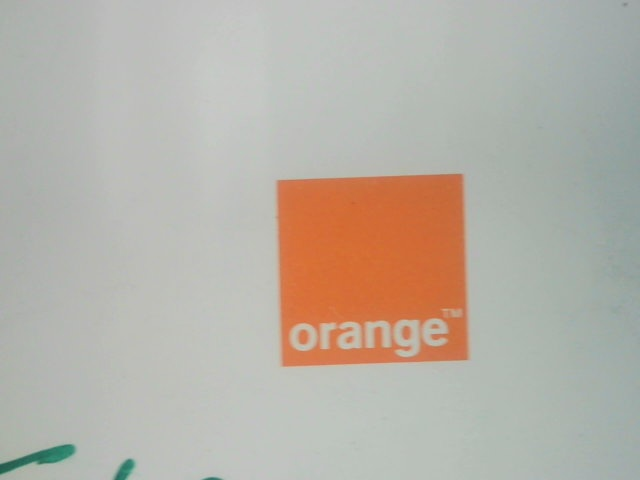AR_Orange: (270, 171, 479, 369)
